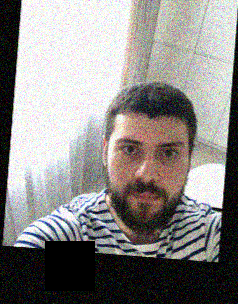without_mask: (107, 128, 188, 235)
